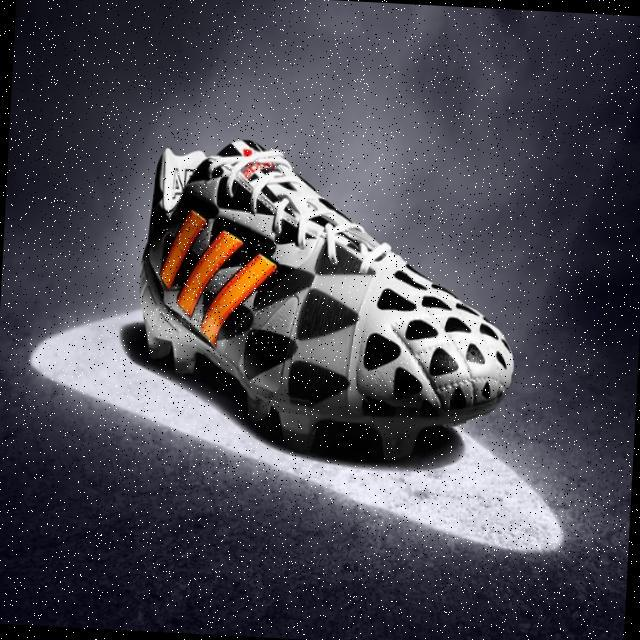Adidas: (158, 211, 281, 345)
